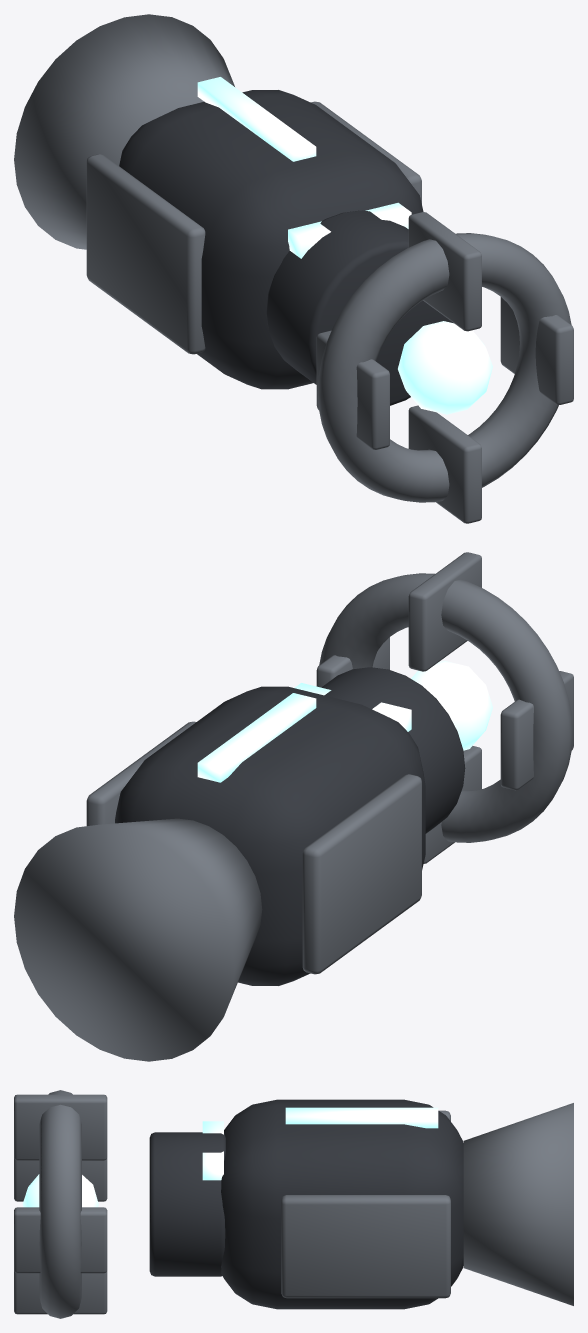
The model's file is weapon_drone_vortex.glb.
3 renders of one model, top to bottom at view 1: azimuth 30°, elevation 25°; view 2: azimuth 150°, elevation 25°; view 3: azimuth 270°, elevation 25°, orthographic. The views are drawn at different scales.
Visible parts, largest first — view 1: weapon_drone_vortex; view 2: weapon_drone_vortex; view 3: weapon_drone_vortex.
Part boxes in pixels (<box>): weapon_drone_vortex: <box>14,14,573,523</box>; weapon_drone_vortex: <box>14,552,573,1061</box>; weapon_drone_vortex: <box>14,1090,573,1318</box>.
Size of the model in its own units: 0.54 by 0.56 by 1.32.
